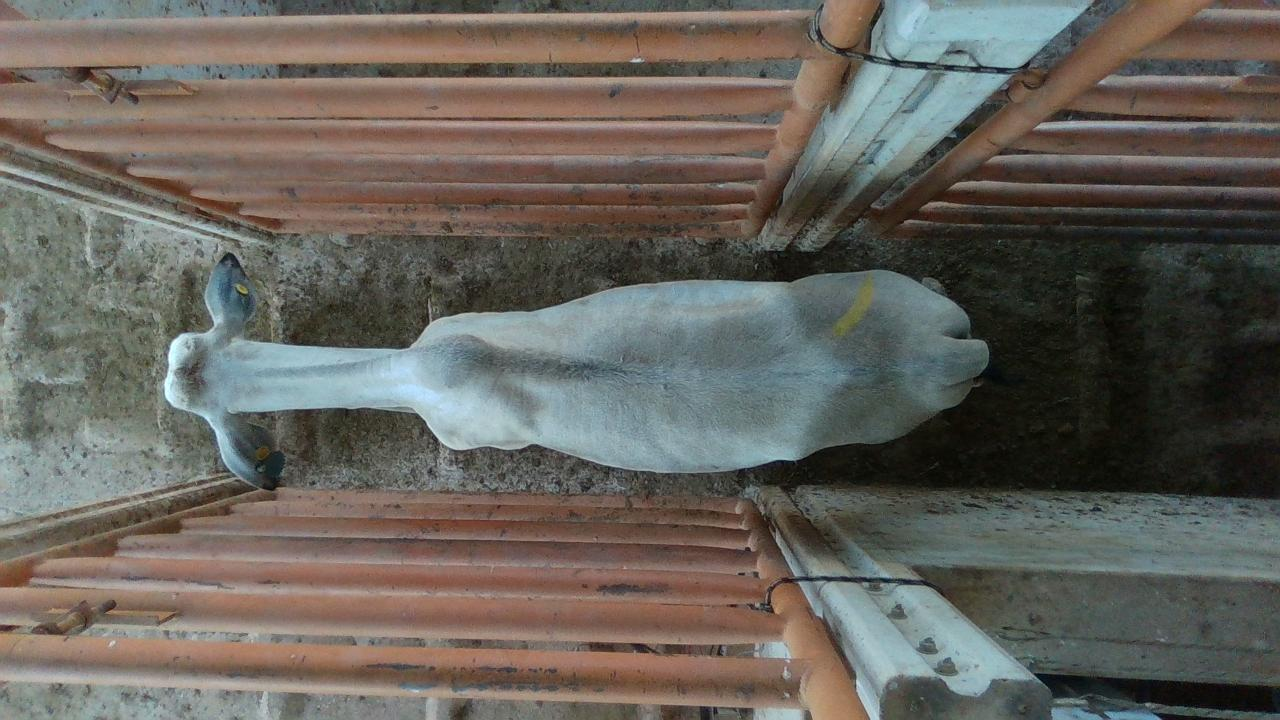cattle: (162, 251, 992, 489)
